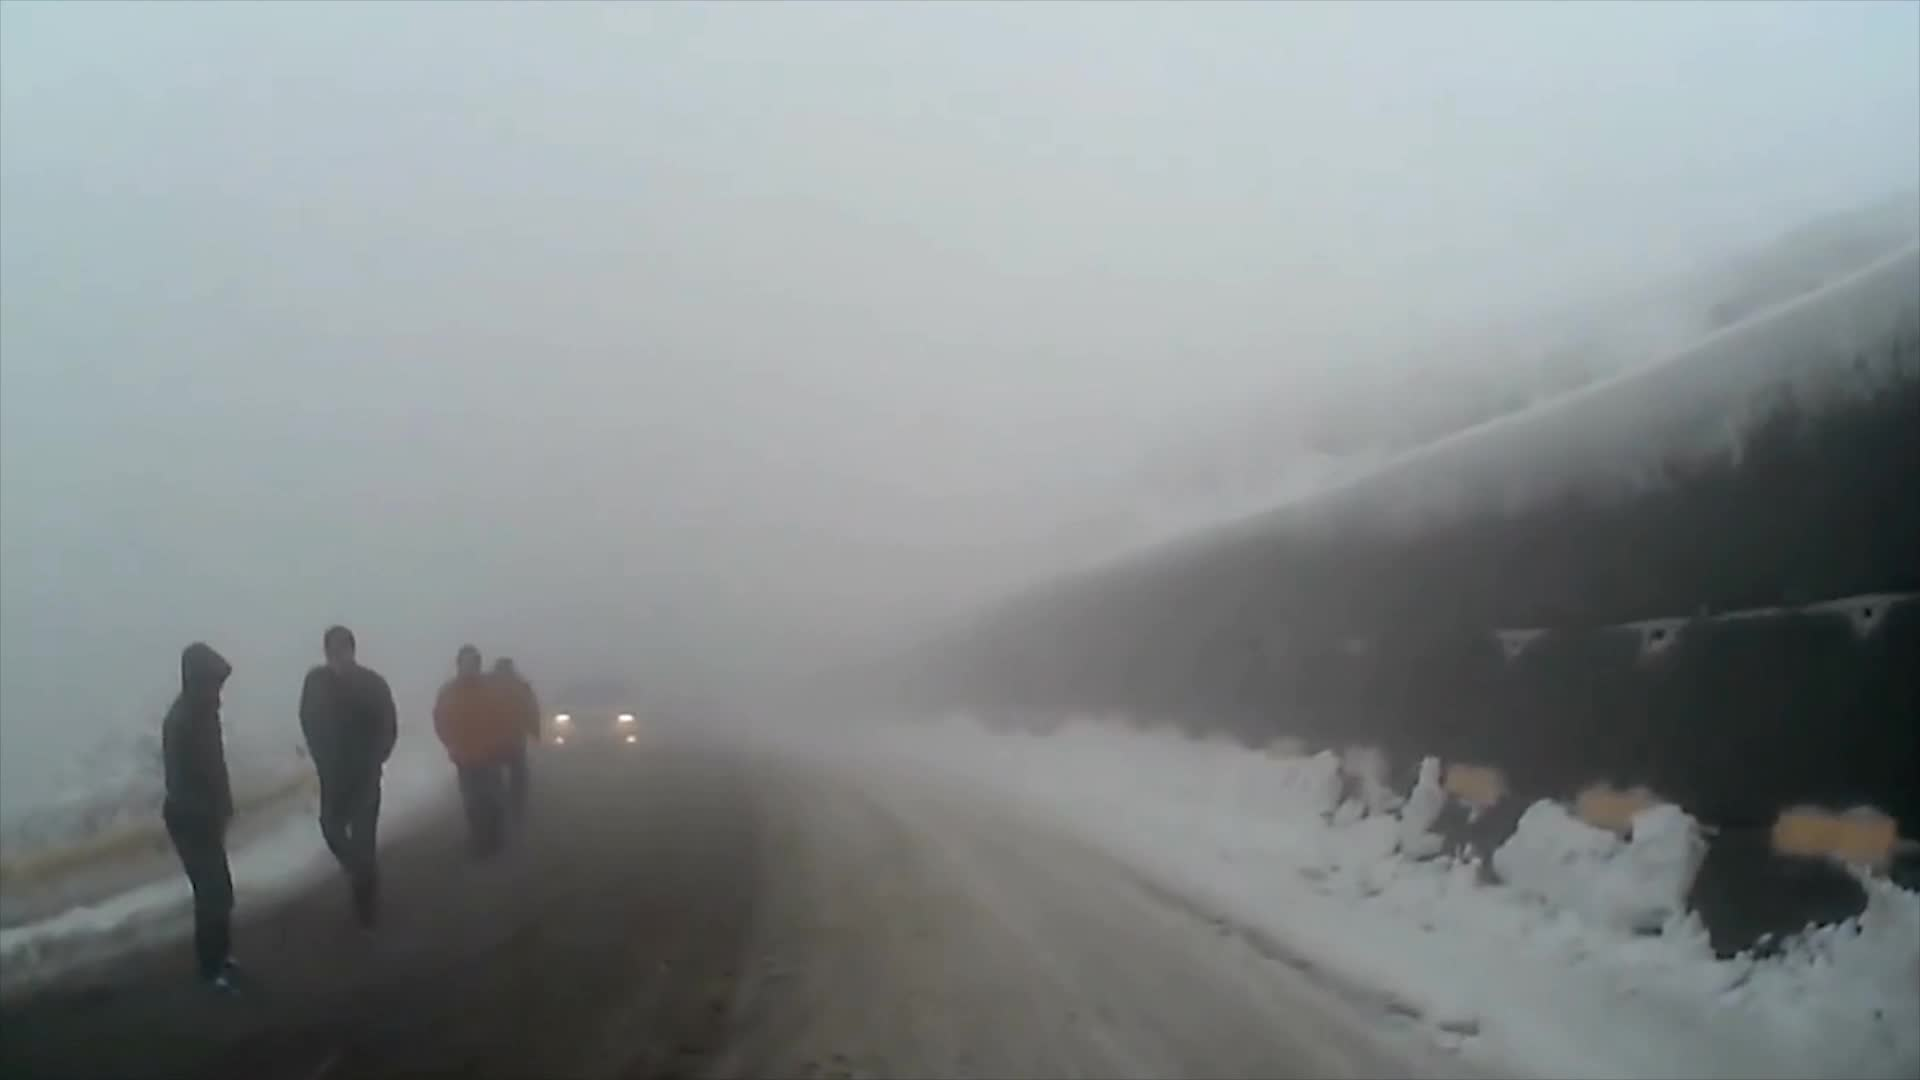pedestrian: (156, 644, 249, 993), (298, 626, 403, 932), (432, 646, 528, 863)
vehicle: (547, 678, 643, 766)
